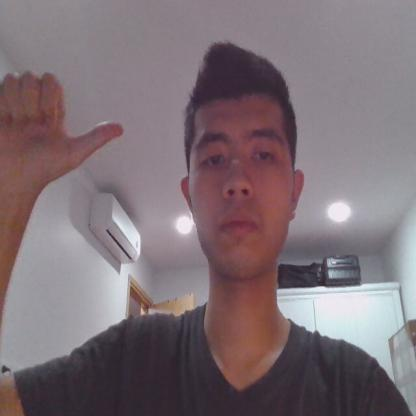left: (0, 67, 124, 184)
